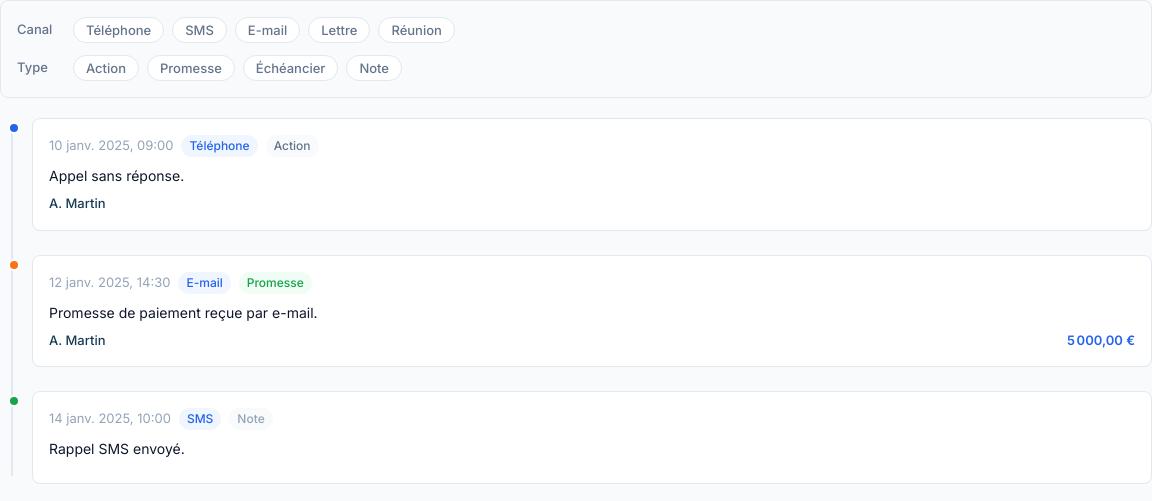
Test: TimelineComponent › should filter events by channel
// First button group is channels: telephone, sms, email, lettre, reunion
Click the button with class "timeline__filter-btn" showing "Téléphone".
click(119, 30)  # box [73, 17, 164, 43]
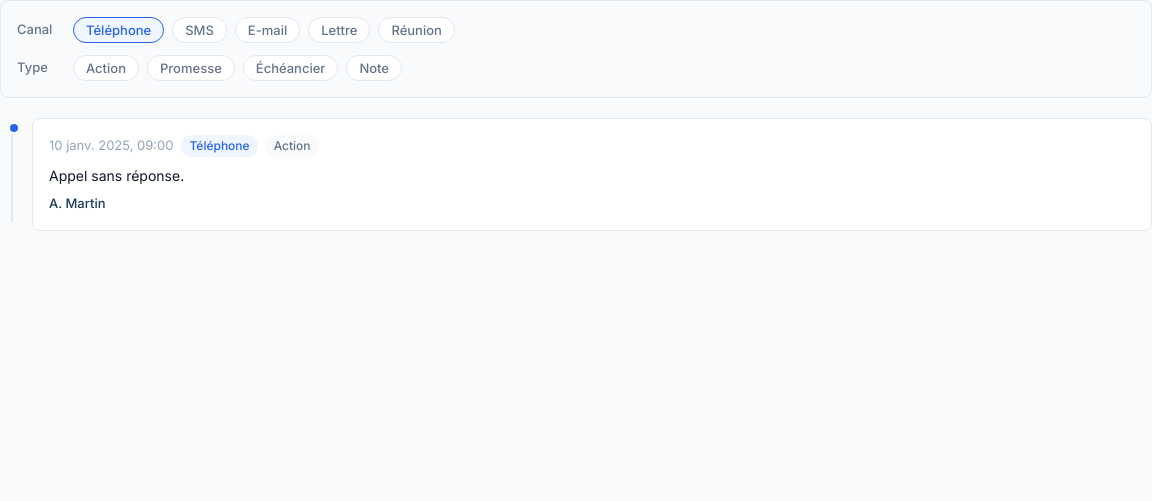
expect the number of list items with class "timeline__event" is 1: met, box [32, 118, 1151, 230]
